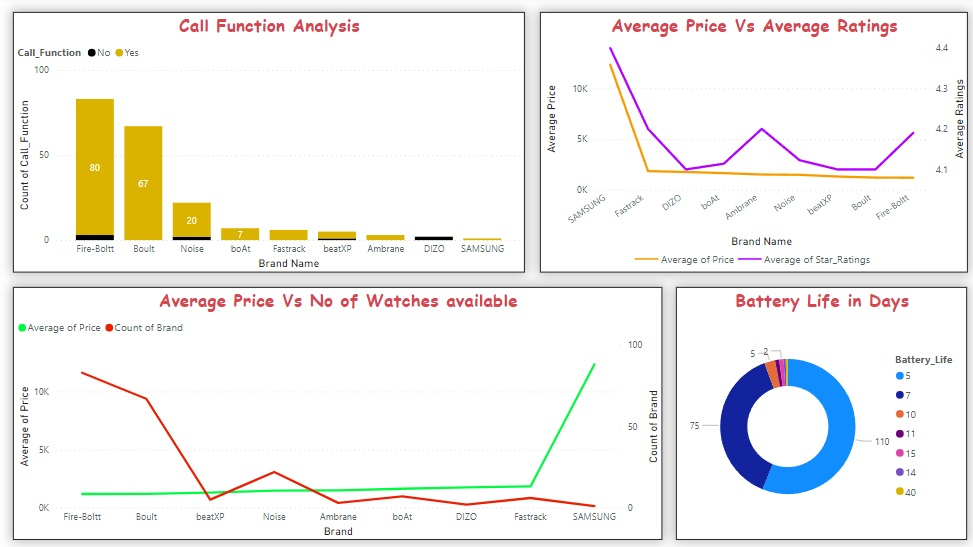

This screenshot's page, from the dashboard's own definition file:
{"tool":"powerbi","page":{"name":"Page 2","canvas":[1280,720],"ordinal":1},"visuals":[{"type":"lineChart","title":"Average Price Vs No of Watches available","fields":{"Category":["Smart_watches.Brand"],"Y":["Avg(Smart_watches.Price)"],"Y2":["CountNonNull(Smart_watches.Brand)"]},"box":[19.2,379.5,849.7,331.3],"z":0},{"type":"columnChart","title":"Call Function Analysis","fields":{"Category":["Smart_watches.Brand"],"Series":["Smart_watches.Call_Function"],"Y":["CountNonNull(Smart_watches.Call_Function)"]},"box":[19.2,19.2,669.6,341],"z":1000},{"type":"lineChart","title":"Average Price Vs Average Ratings","fields":{"Category":["Smart_watches.Brand"],"Y":["Avg(Smart_watches.Price)"],"Y2":["Avg(Smart_watches.Star_Ratings)"]},"box":[709.4,19.2,559.6,341],"z":2000},{"type":"donutChart","title":"Battery Life in Days","fields":{"Category":["Smart_watches.Battery_Life"],"Y":["CountNonNull(Smart_watches.Battery_Life)"]},"box":[888.2,379.5,380.8,331.3],"z":3000}]}

Visuals, with their boxes in screenshot pixels (x1, y1, x2, y2), scaled from the page's 1280x720 canvas onto the 973x547 screenshot:
"Average Price Vs No of Watches available" lineChart: l=15, t=288, r=660, b=540
"Call Function Analysis" columnChart: l=15, t=15, r=524, b=274
"Average Price Vs Average Ratings" lineChart: l=539, t=15, r=965, b=274
"Battery Life in Days" donutChart: l=675, t=288, r=965, b=540
